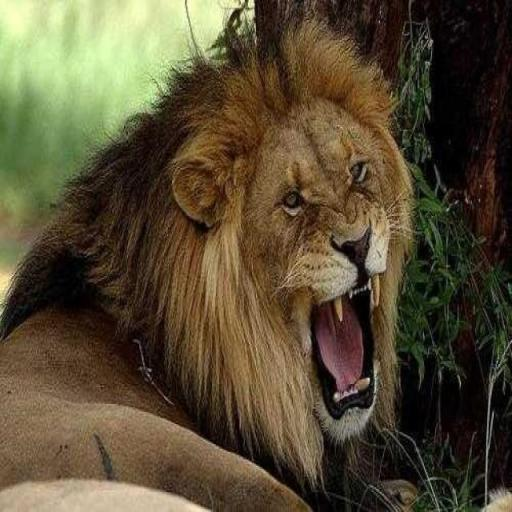Lion: (0, 0, 417, 510)
